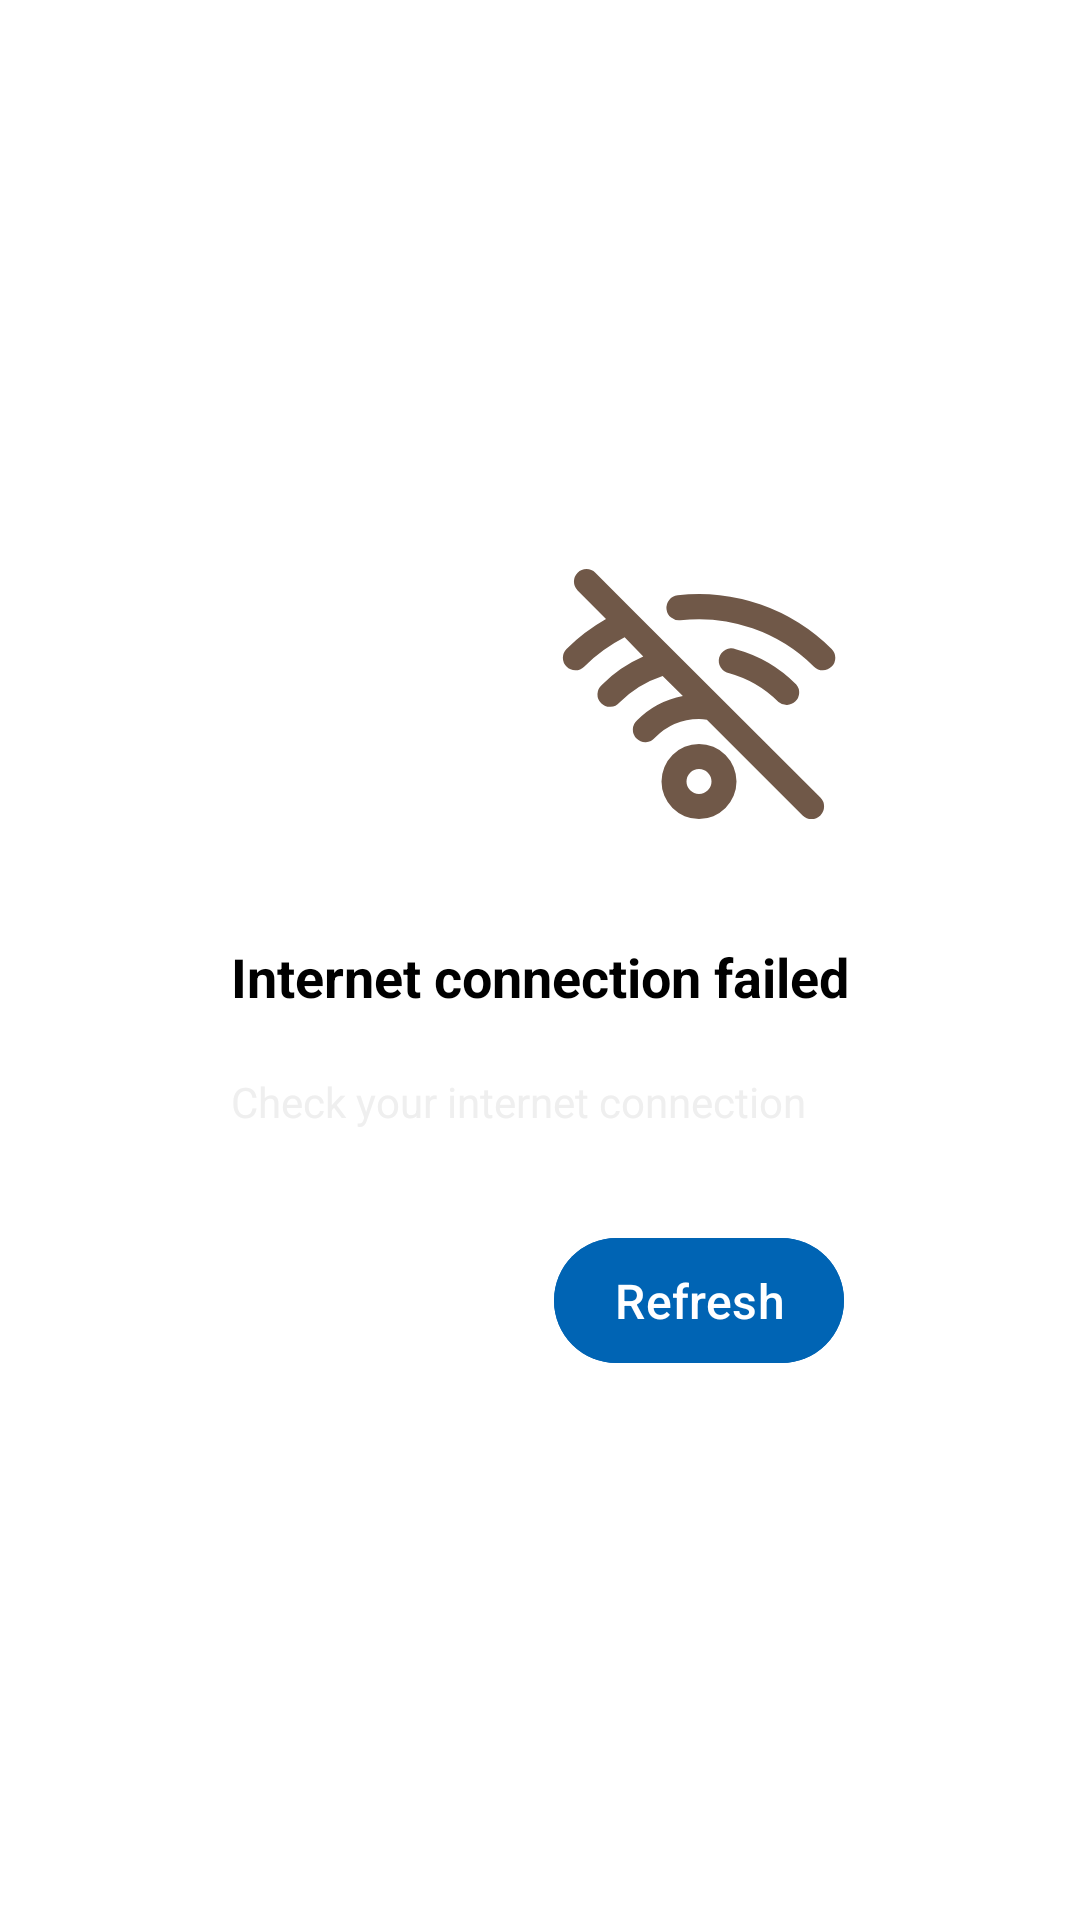

Icon bounding boxes for this 1080px×1920px phone screenshot, format BBox(x1, y1, x2, y2):
No internet connection: BBox(563, 569, 836, 819)
